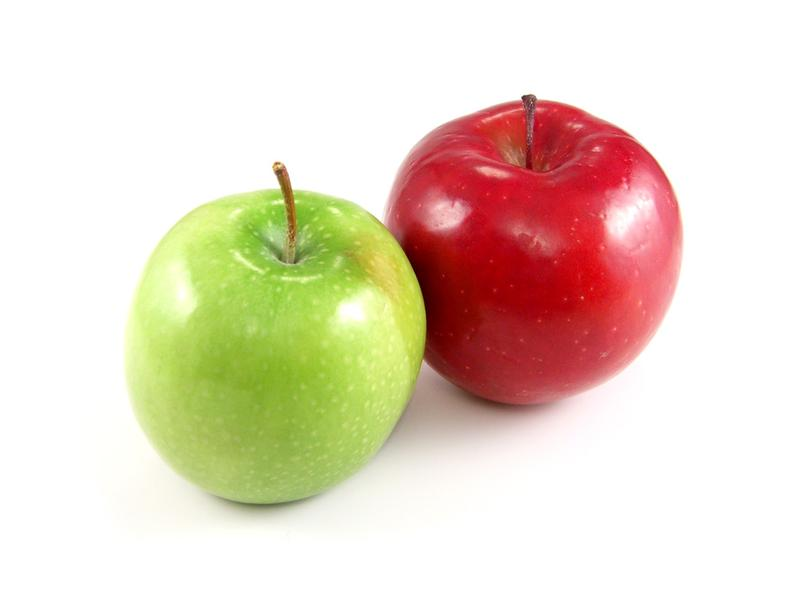apple: (126, 151, 433, 513), (383, 85, 700, 411)
